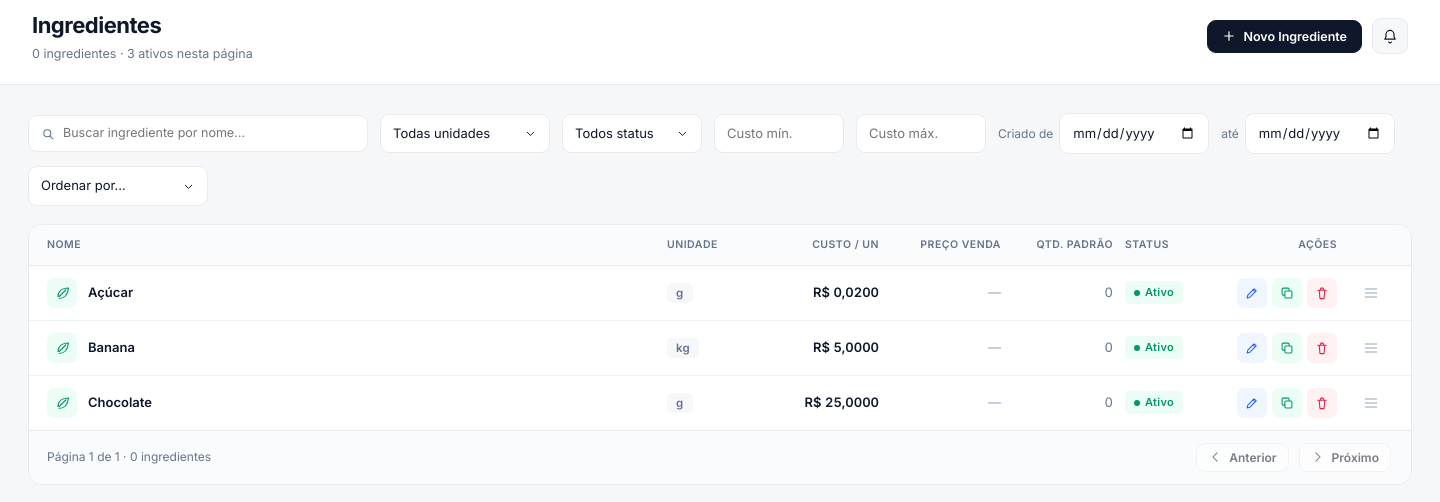
it: IngredientsView › cost and sort filters › should clear active filters via the reset button
The width and height of the screenshot is (1440, 502).
In the number field with test id "ingredient-cost-min": (779,134) 727,124 -> 831,143, type "5"
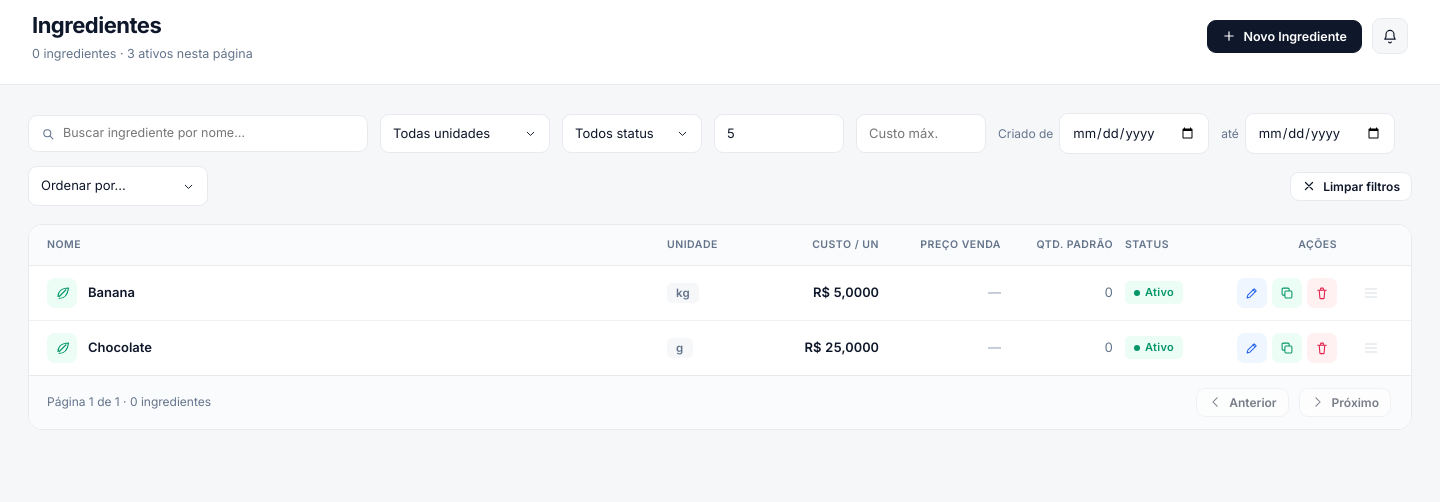
Now the button with test id "ingredient-clear-filters" is shown
Click the button with test id "ingredient-clear-filters": (1351,186) 1290,172 -> 1412,200
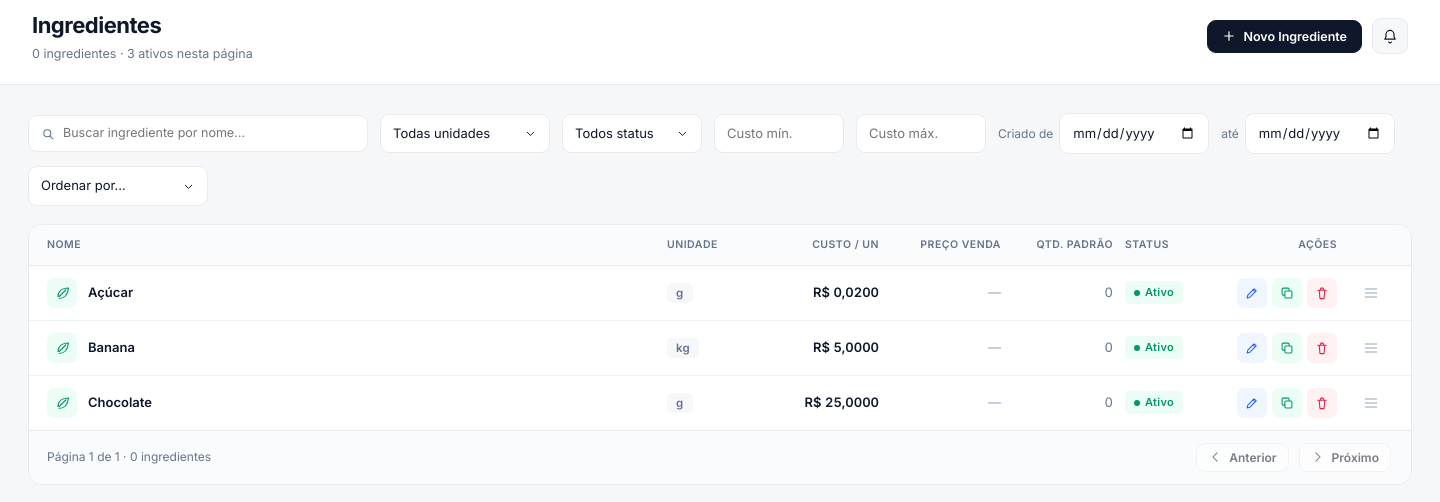
Now the number of elements with class "ui-row" is 3, box 29,266 -> 1411,320; 29,320 -> 1411,376; 47,388 -> 1379,418
